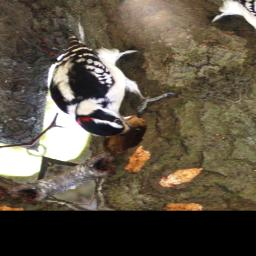Woodpecker: (6, 15, 196, 148)
